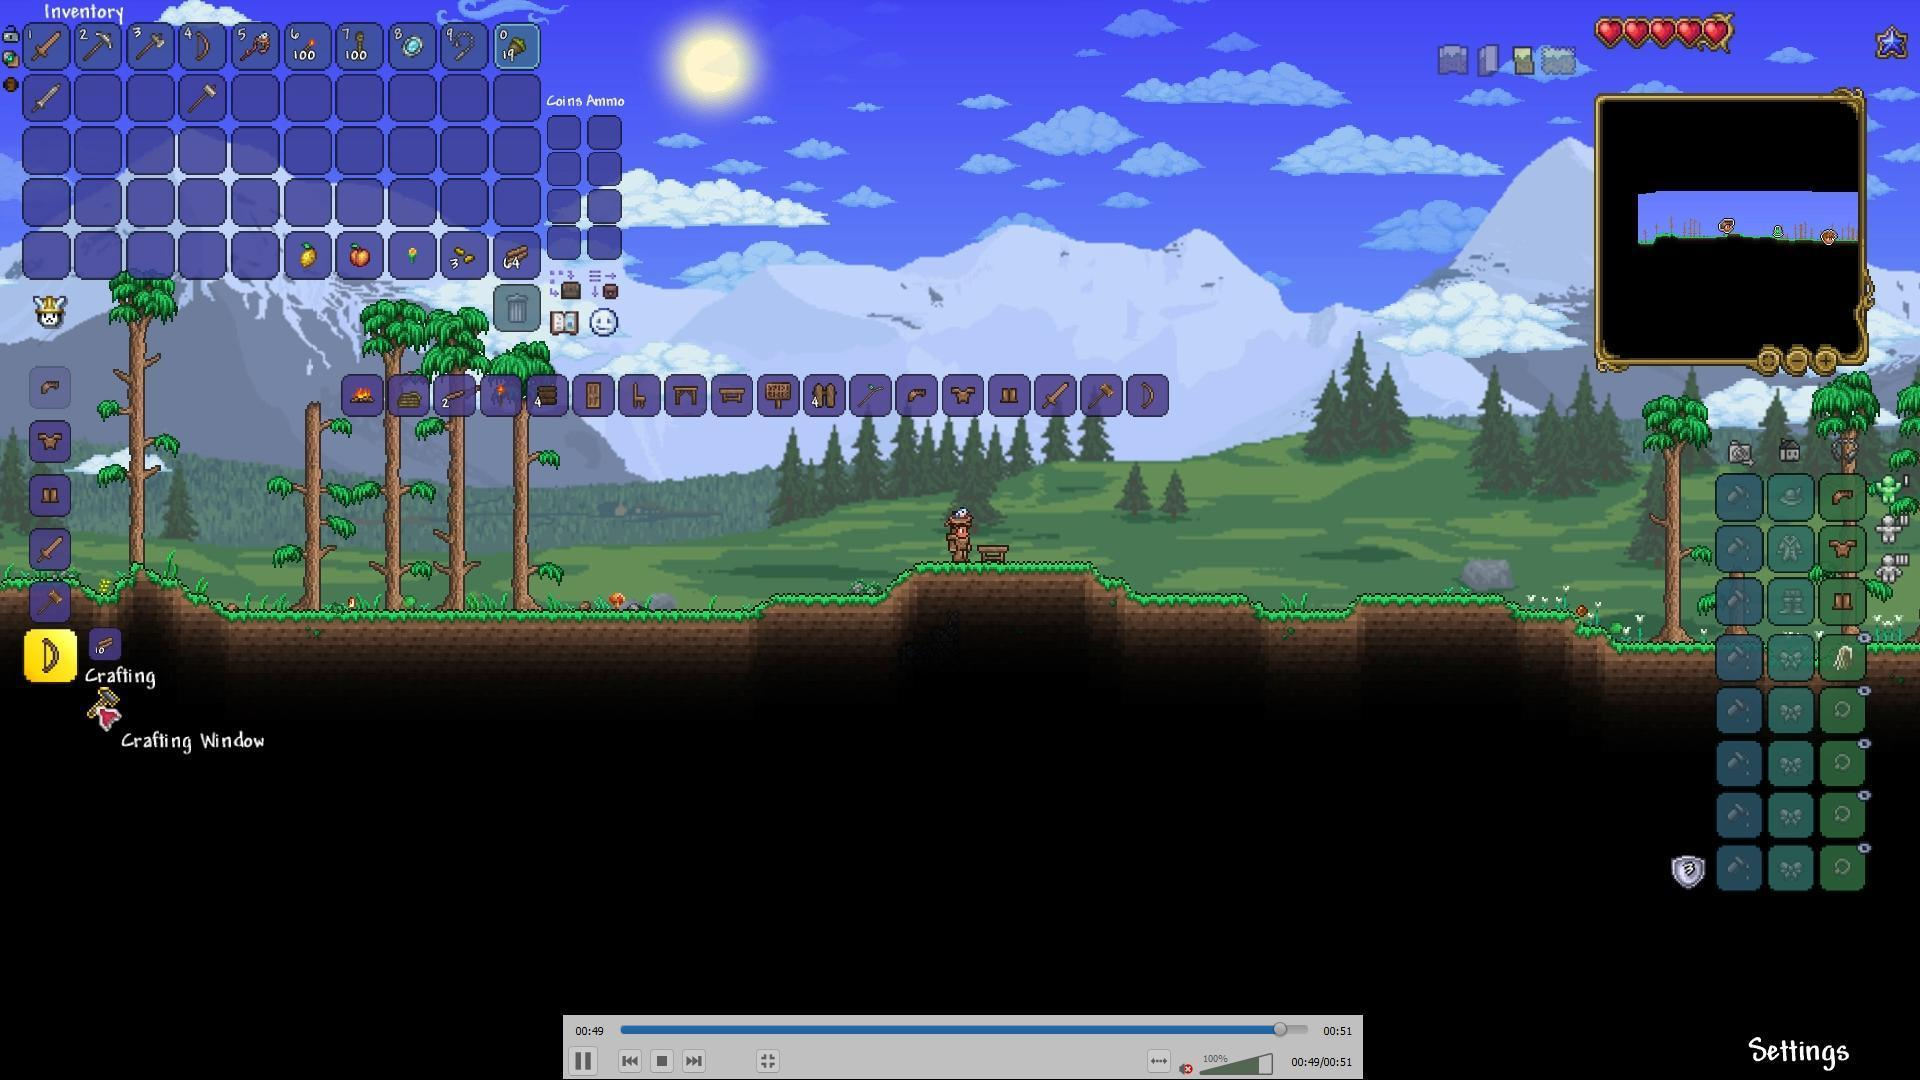legs: (903, 384, 927, 407)
